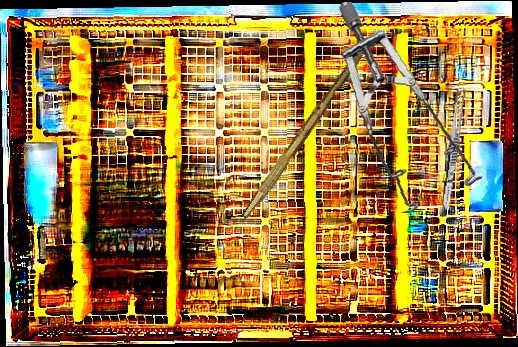Dressing Forceps: (439, 87, 467, 212)
Scalpel Handle: (240, 48, 365, 224)
Speculum: (317, 1, 501, 221)
